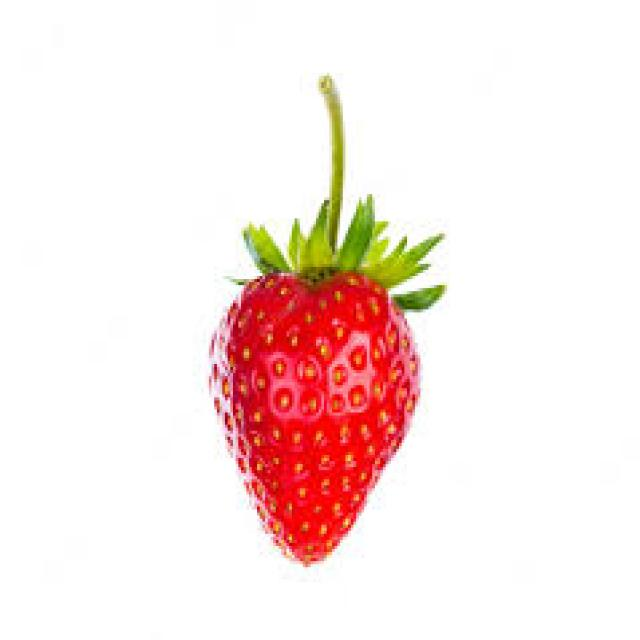strawberry: (196, 196, 459, 566)
